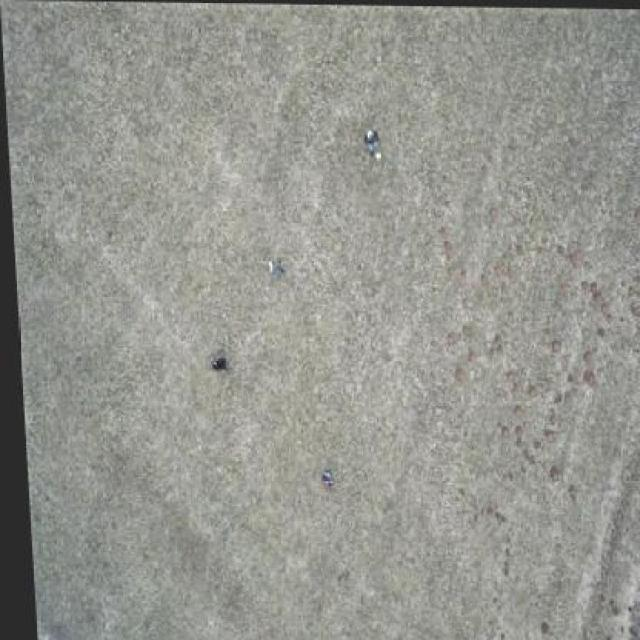Person: (353, 122, 387, 163), (189, 349, 234, 374), (308, 460, 337, 498), (254, 253, 286, 282)
